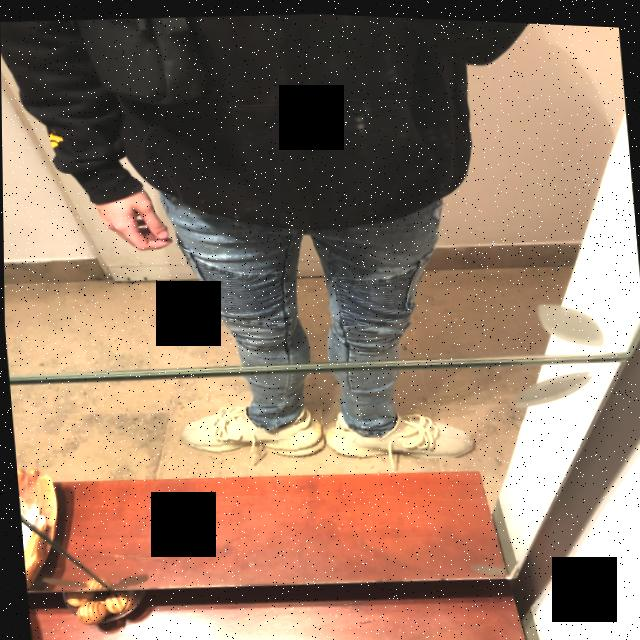shoe: (320, 393, 478, 463), (171, 396, 326, 464)
